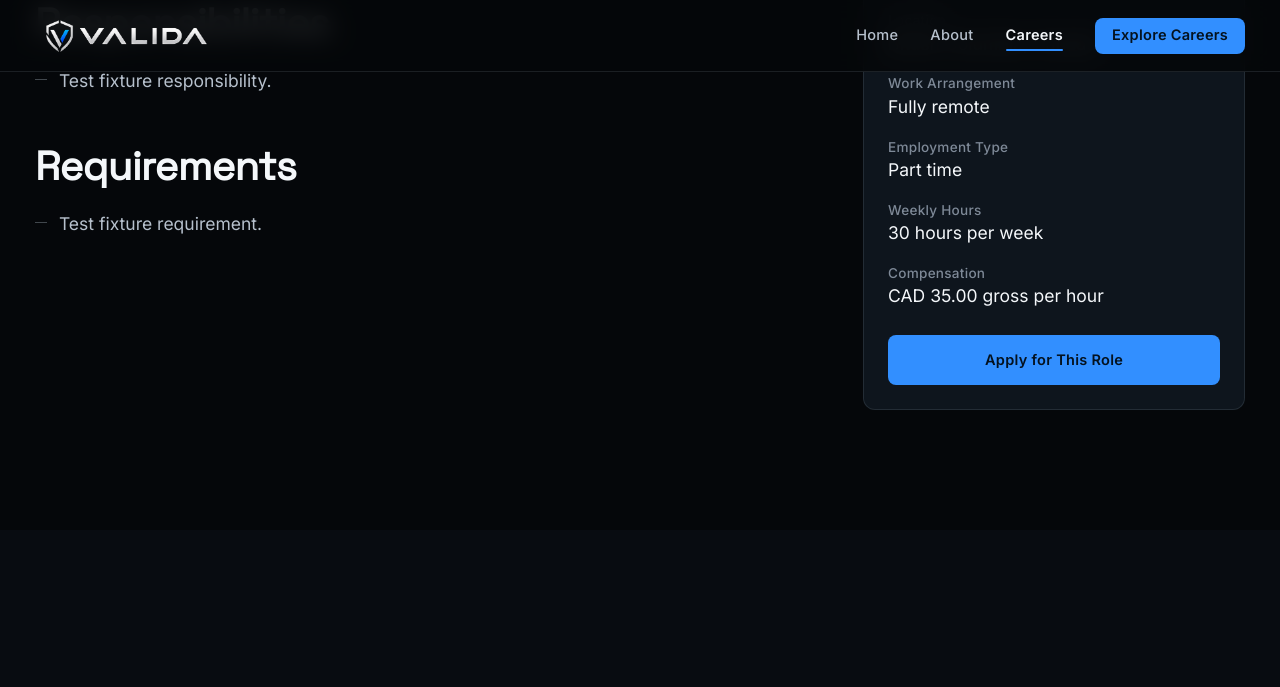
Test case: ApplyLayout — focus across the layout boundary › moves focus to main when entering Apply from Job Detail
(page scrolled)
Click the link "Apply for This Role" at {"x": 1054, "y": 360}, box 888,335 -> 1220,385
(page scrolled)
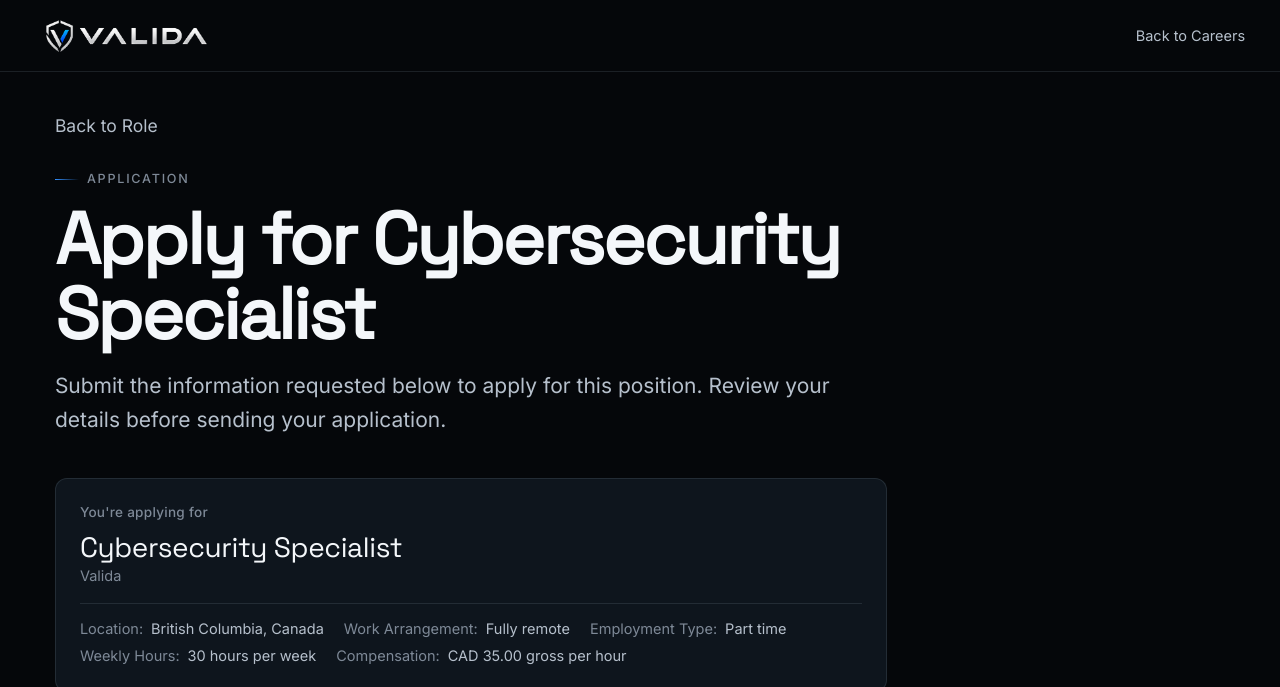
Check: the heading "Apply for Cybersecurity Specialist" is shown, box 55,202 -> 887,353
